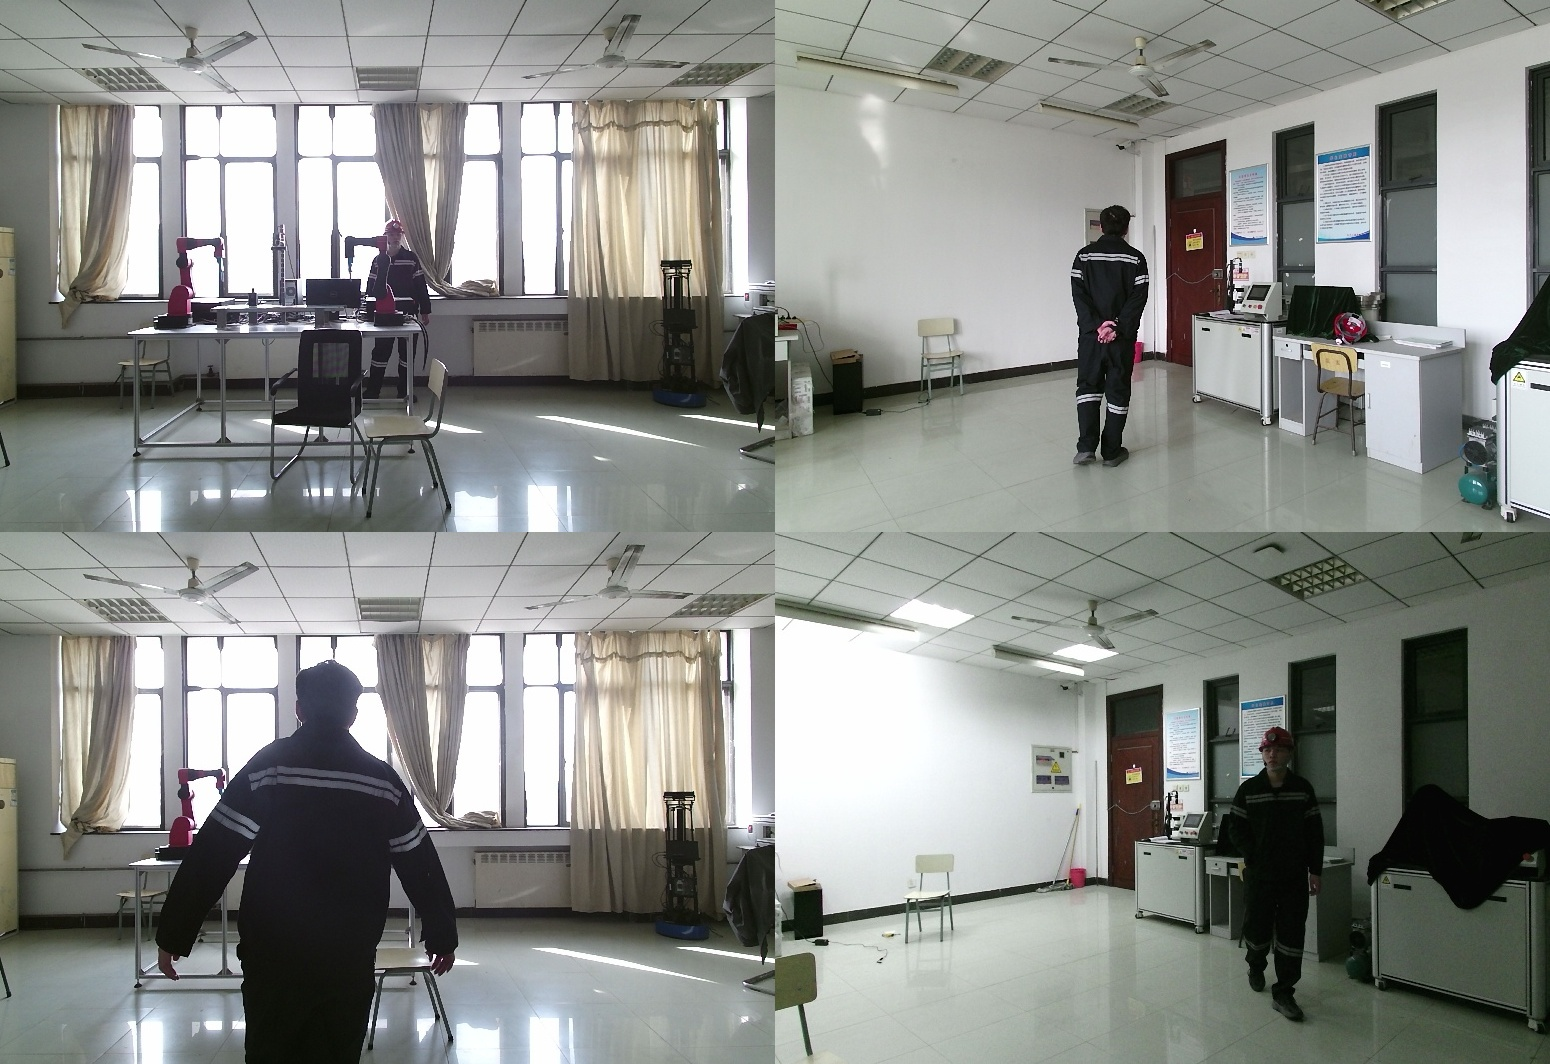person: (155, 662, 459, 1064), (1219, 728, 1338, 1017), (1065, 205, 1155, 473), (363, 220, 431, 400)
